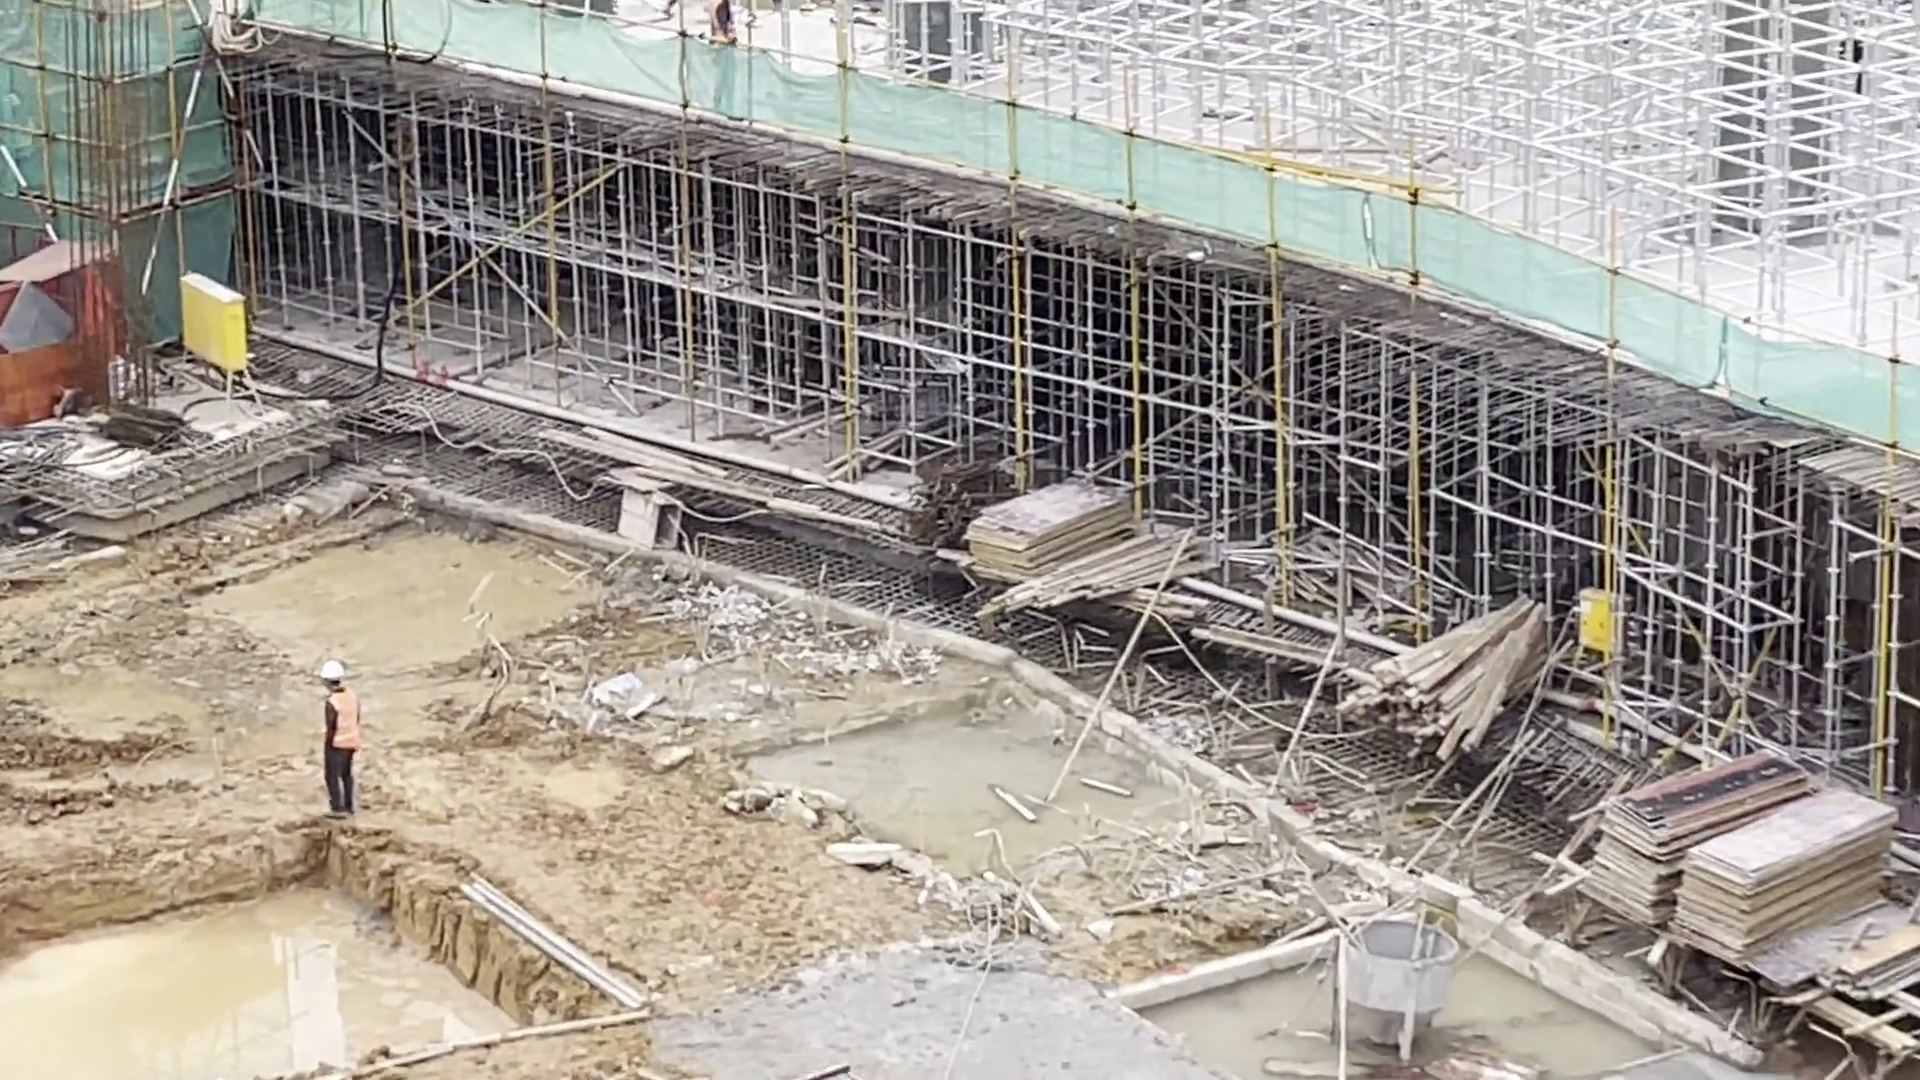board: (1593, 754, 1810, 895), (1684, 802, 1886, 942)
ebox: (179, 271, 248, 379), (1577, 589, 1621, 657)
helmet: (317, 658, 347, 679)
person: (315, 654, 366, 823)
vest: (322, 685, 359, 755)
wood: (1331, 598, 1572, 729)
